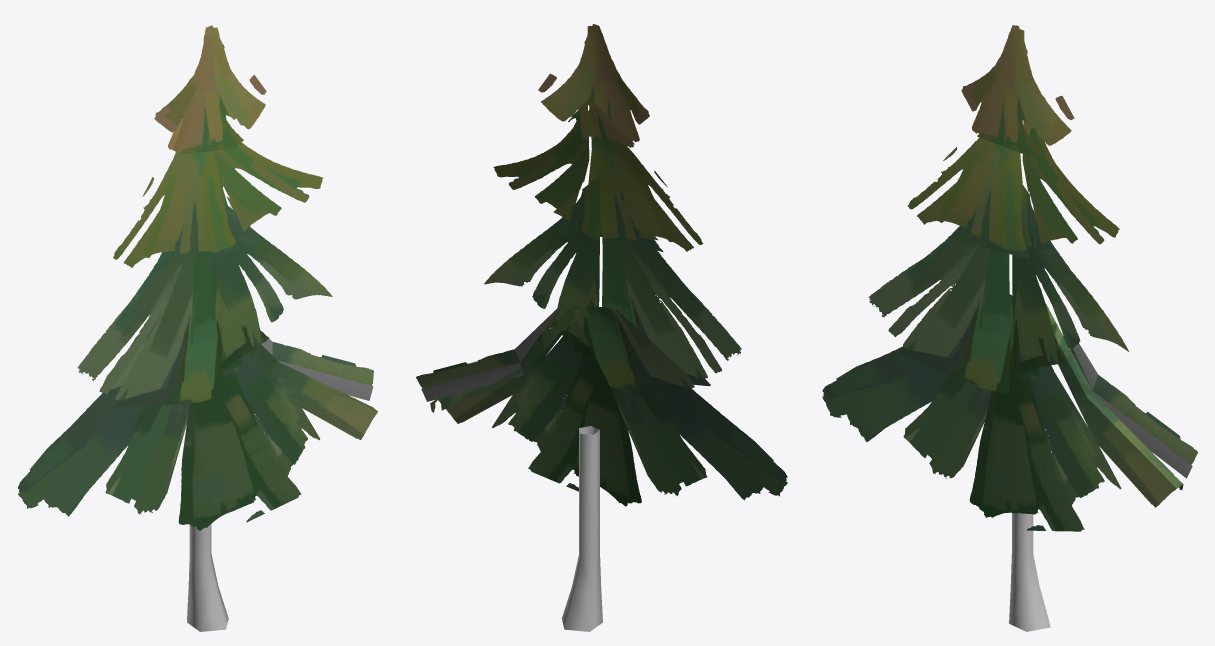
Rendered from pinetree(2).fbx.
3 renders of one model, left to right at view 1: azimuth 30°, elevation 25°; view 2: azimuth 150°, elevation 25°; view 3: azimuth 330°, elevation 25°, orthographic.
Visible parts, largest first — view 1: pinetree; view 2: pinetree; view 3: pinetree.
Boxes of the visible parts, left/top/right/bottom form: pinetree: left=18, top=25, right=377, bottom=631; pinetree: left=416, top=24, right=787, bottom=631; pinetree: left=822, top=25, right=1197, bottom=631.
Size of the model in its own units: 253 by 399 by 37.21.
